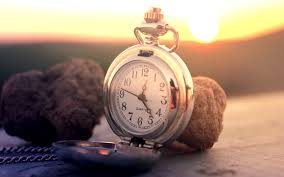clock: (108, 59, 171, 136)
